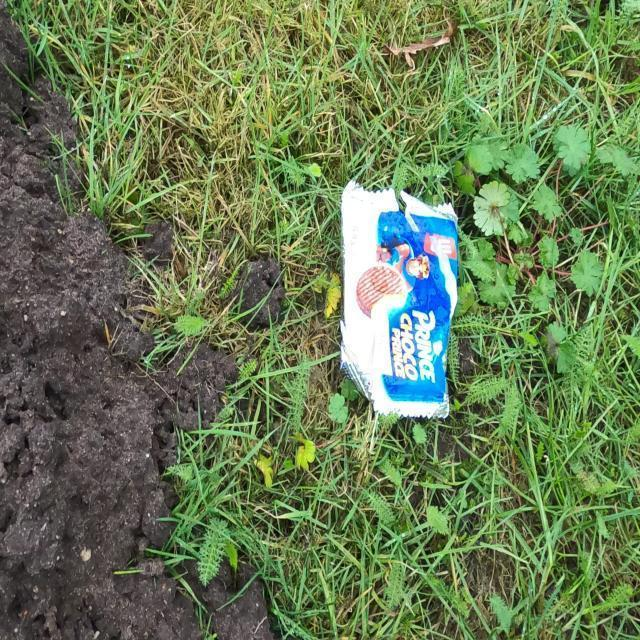Plastic: (338, 179, 461, 421)
